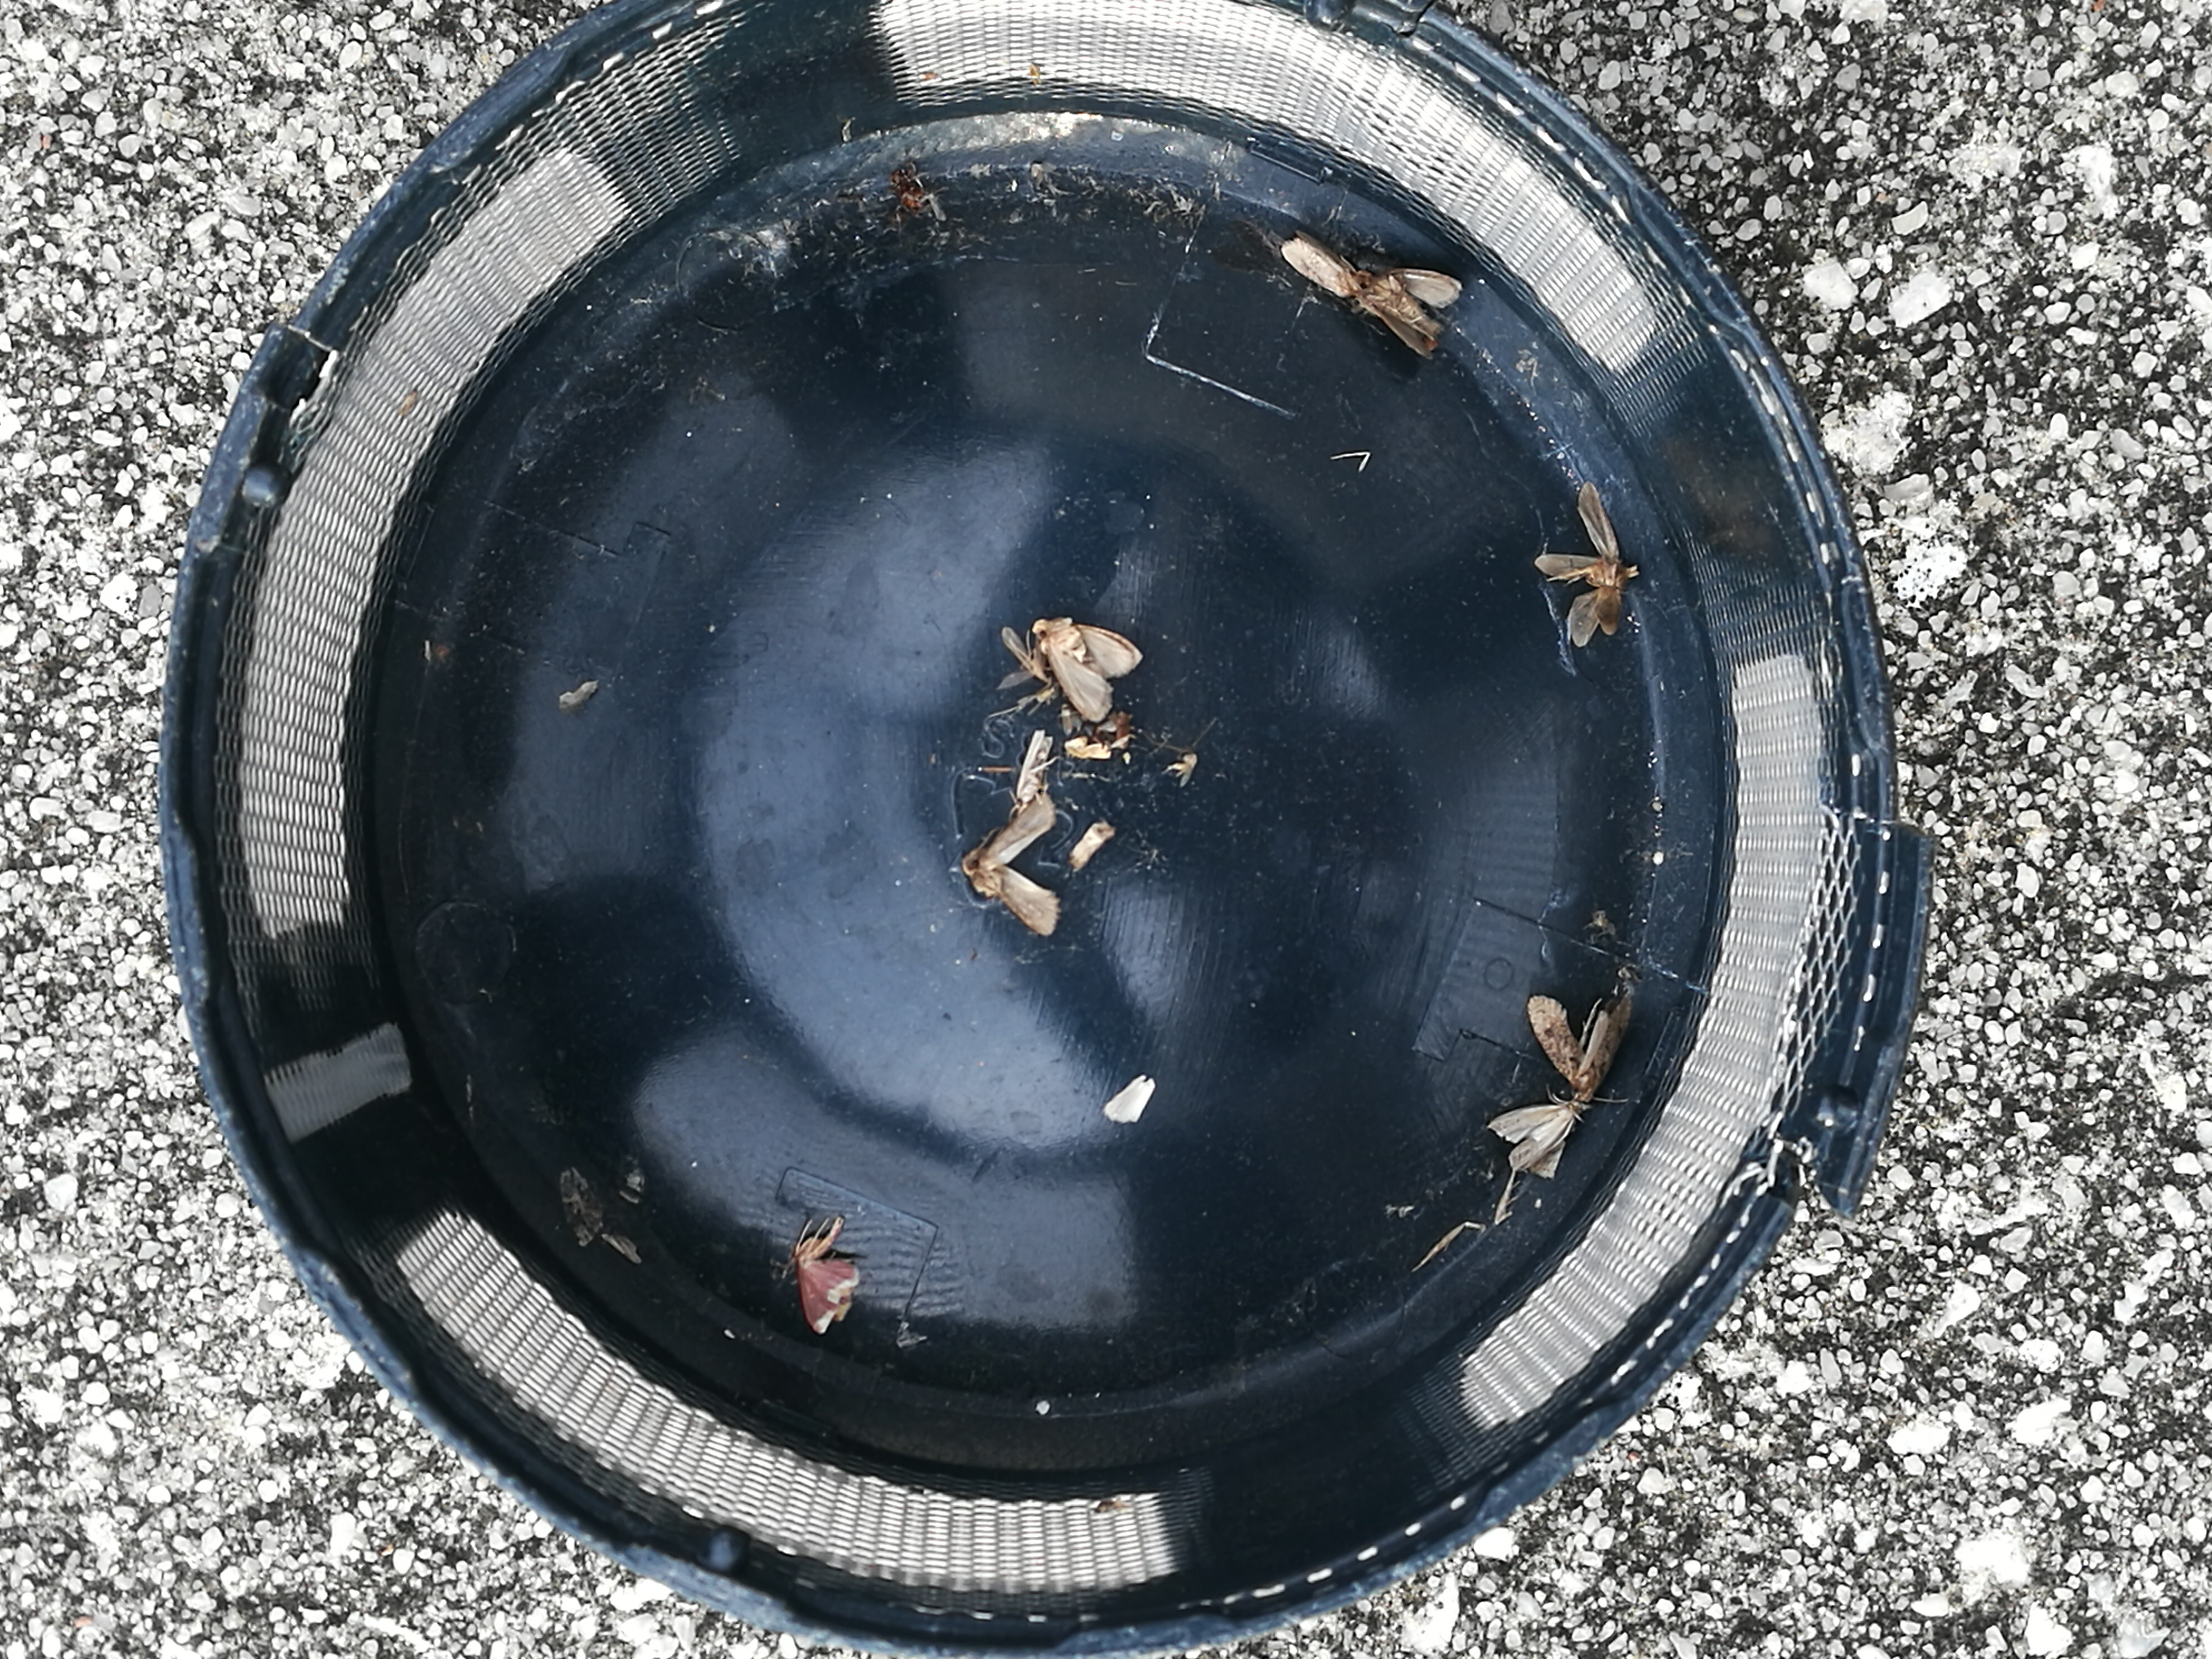mosquito: (1280, 228, 1355, 300), (1015, 728, 1050, 807)
moth: (1534, 481, 1622, 645), (967, 793, 1055, 936), (1033, 619, 1143, 721), (1527, 997, 1629, 1091), (1357, 268, 1461, 357), (1489, 1103, 1578, 1178), (798, 1234, 860, 1331)
